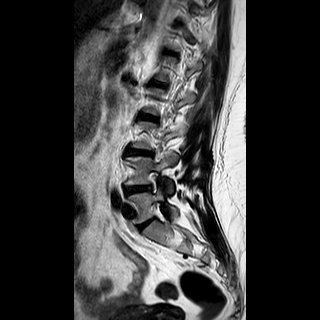LFS0: (141, 166, 168, 196)
